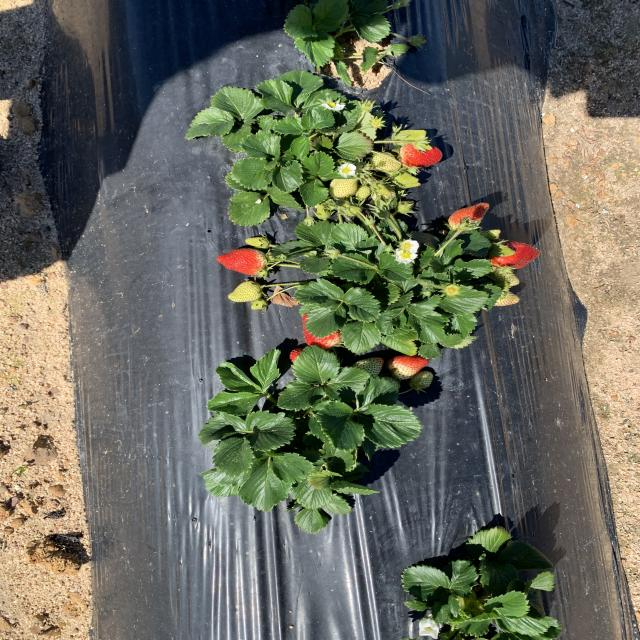unripe: (299, 311, 347, 348), (486, 240, 540, 269), (215, 246, 267, 276), (286, 346, 333, 371), (399, 143, 444, 169), (452, 200, 492, 228), (389, 353, 428, 378)
